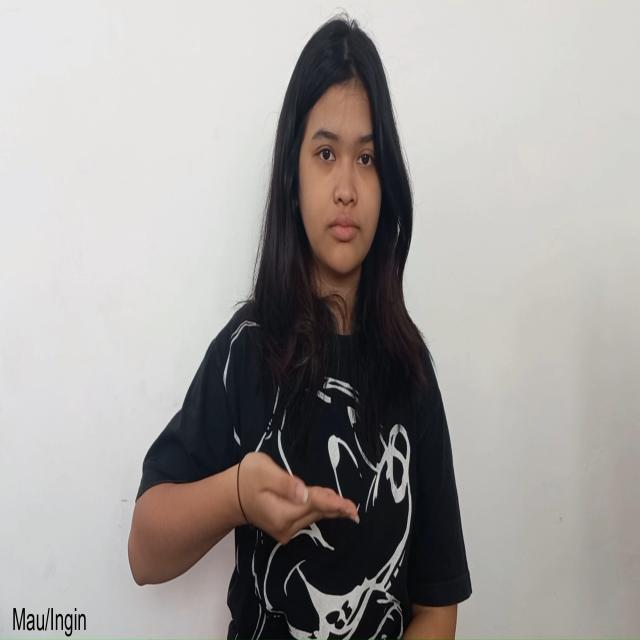Mau-Ingin -BISINDO-: (236, 448, 362, 551)
